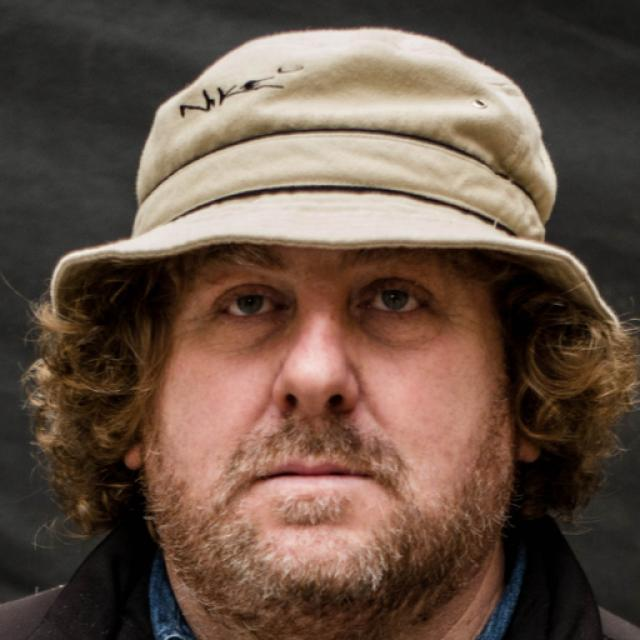neutral: (148, 242, 506, 610)
